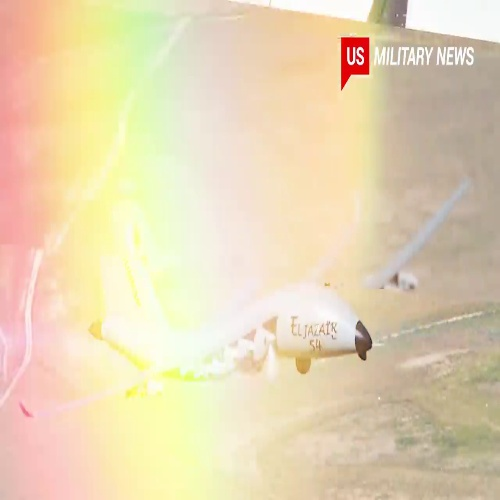uav: (25, 219, 469, 429)
